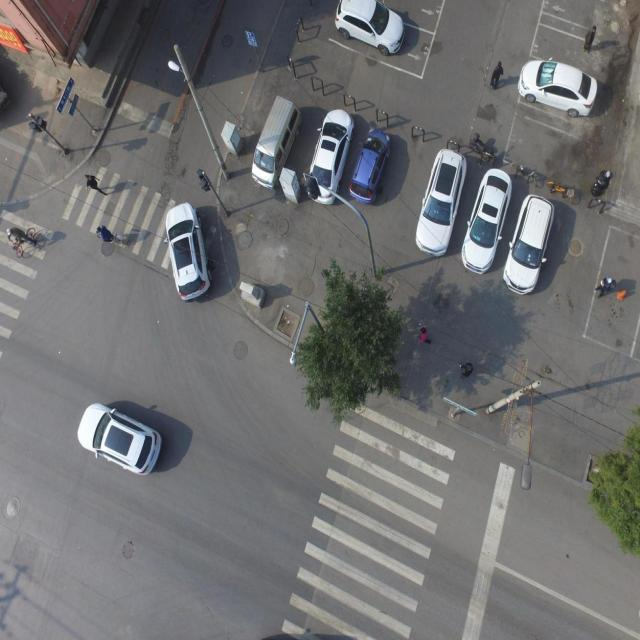p3rson: (6, 226, 36, 245), (84, 173, 108, 195), (488, 61, 503, 89), (594, 276, 612, 298), (583, 24, 596, 53), (96, 224, 113, 243), (416, 326, 432, 344), (458, 361, 472, 376)
